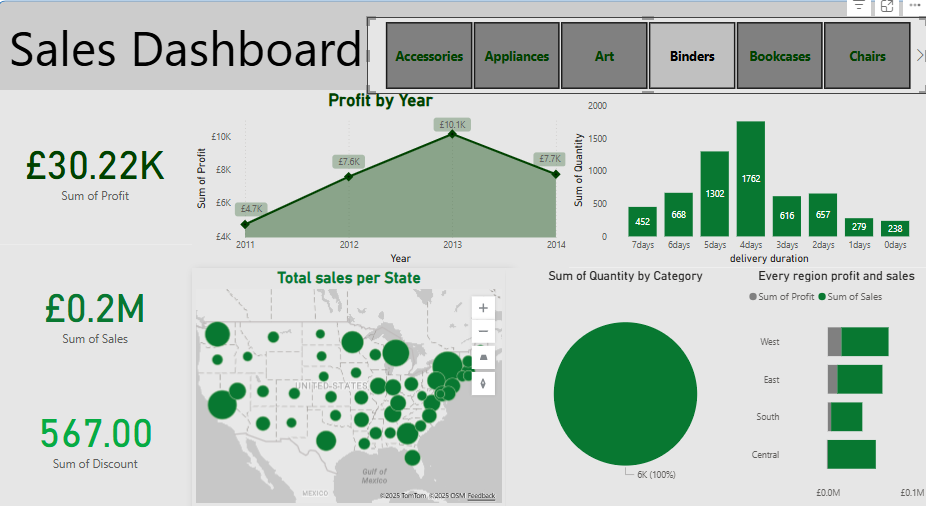

This screenshot's page, from the dashboard's own definition file:
{"tool":"powerbi","page":{"name":"Page 1","canvas":[1280,720],"ordinal":0},"visuals":[{"type":"shape","title":"    ","box":[0,0,1280,152.9],"z":0},{"type":"card","fields":{"Values":["Sum(Data.Profit)"]},"box":[0,147.3,267,213.3],"z":1000},{"type":"card","fields":{"Values":["Sum(Data.Discount)"]},"box":[0,527.1,267,192.7],"z":2000},{"type":"card","fields":{"Values":["Sum(Data.Sales)"]},"box":[0,360.6,267,181.7],"z":3000},{"type":"areaChart","title":"Profit by Year","fields":{"Category":["Data.Year"],"Y":["Sum(Data.Profit)"]},"box":[267,147.3,518.9,245],"z":4000},{"type":"azureMap","title":"Total sales per State","fields":{"Size":["Sum(Data.Sales)"],"Category":["Data.State"]},"box":[267,392.3,432.2,327.6],"z":5000},{"type":"pieChart","fields":{"Category":["Data.Category"],"Y":["Sum(Data.Quantity)"]},"box":[699.2,392.3,328.9,327.6],"z":6000},{"type":"slicer","fields":{"Values":["Data.Sub-Category"]},"box":[507.9,46.8,772.1,106],"z":7000},{"type":"clusteredColumnChart","fields":{"Category":["Data.delivery duration"],"Y":["Sum(Data.Quantity)"]},"box":[786,153,494,239],"z":8000},{"type":"barChart","title":"Every region profit and sales ","fields":{"Category":["Data.Region"],"Y":["Sum(Data.Profit)","Sum(Data.Sales)"]},"box":[1028,392,252,328],"z":9000}]}

Visuals, with their boxes on the page's 1280x720 design canvas (x1, y1, x2, y2). These are canvas units, not pixel positions in the 926x506 screenshot, which may show the page scaled, cropped or inside an application window:
"    " shape: locate(0, 0, 1280, 153)
card - Sum(Data.Profit): locate(0, 147, 267, 361)
card - Sum(Data.Discount): locate(0, 527, 267, 720)
card - Sum(Data.Sales): locate(0, 361, 267, 542)
"Profit by Year" areaChart: locate(267, 147, 786, 392)
"Total sales per State" azureMap: locate(267, 392, 699, 720)
pieChart - Data.Category x Sum(Data.Quantity): locate(699, 392, 1028, 720)
slicer - Data.Sub-Category: locate(508, 47, 1280, 153)
clusteredColumnChart - Data.delivery duration x Sum(Data.Quantity): locate(786, 153, 1280, 392)
"Every region profit and sales " barChart: locate(1028, 392, 1280, 720)
